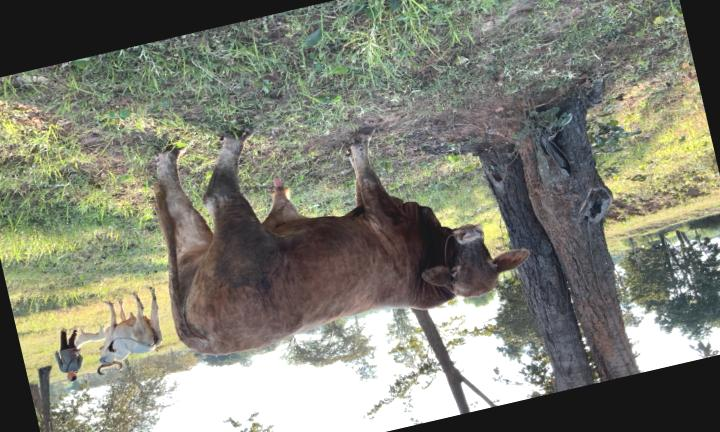Charolais: (157, 130, 530, 354)
